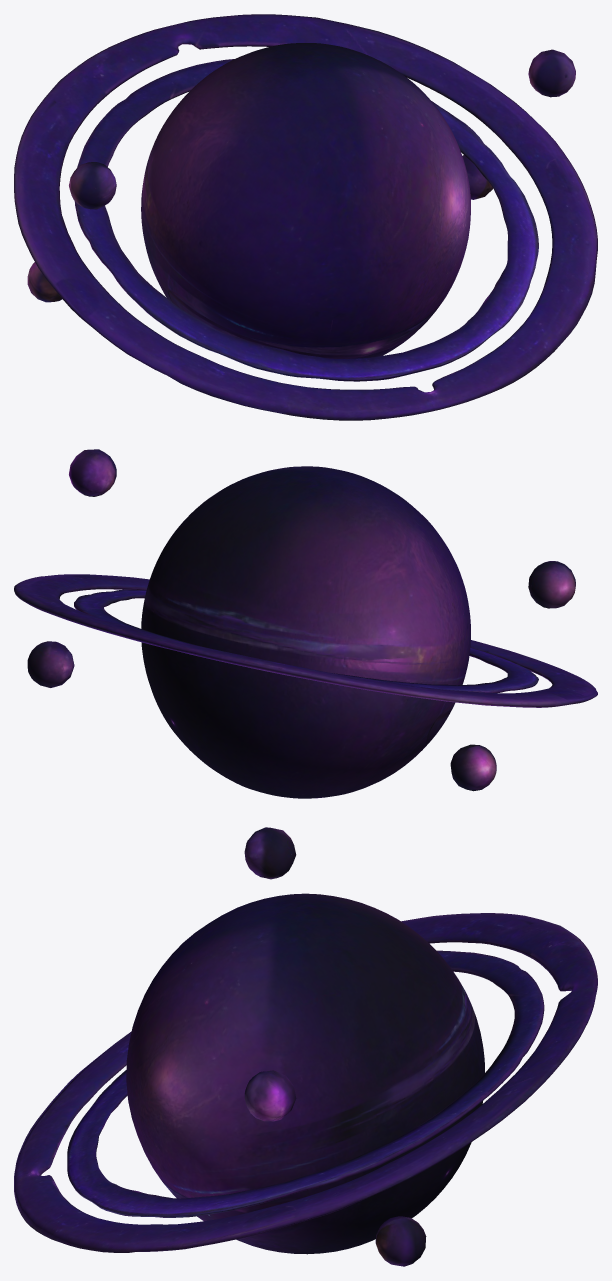
File: Planet.glb
3 renders of one model, top to bottom at view 1: azimuth 30°, elevation 25°; view 2: azimuth 150°, elevation 25°; view 3: azimuth 270°, elevation 25°, orthographic. The views are drawn at different scales.
Bounding box in the file's own units: 1.92 × 1.07 × 1.74.
Materials: 1 (1 with a texture image).
